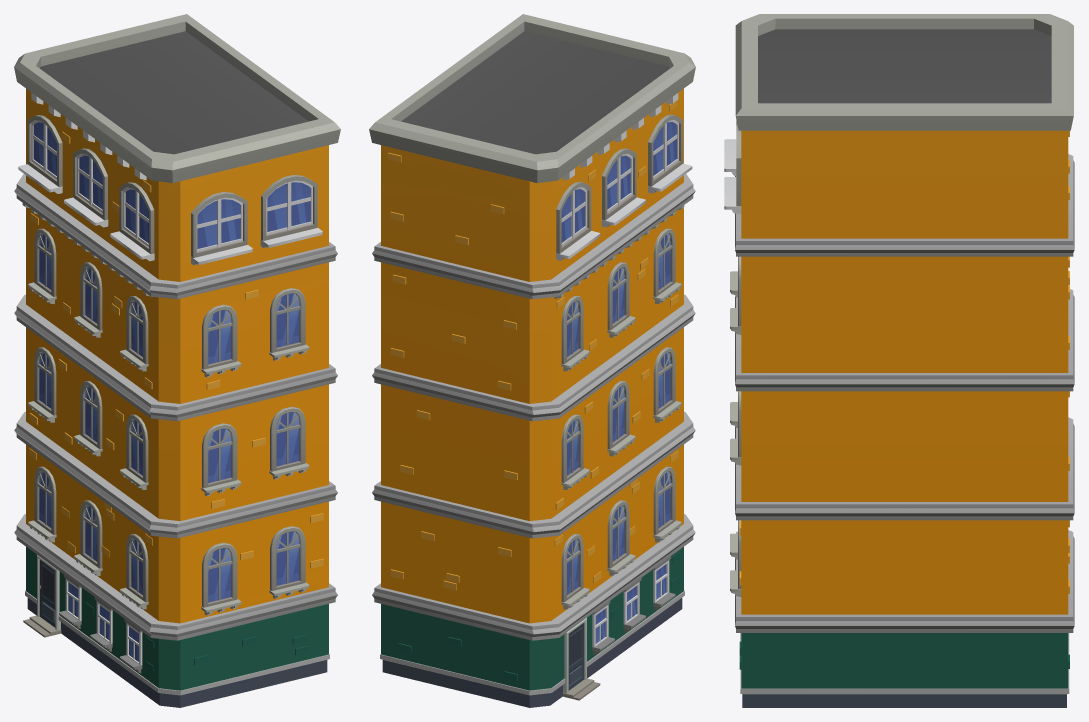
File: Building_18_1_F.fbx
The picture shows the model from 3 angles, left to right: view 1: azimuth 30°, elevation 25°; view 2: azimuth 150°, elevation 25°; view 3: azimuth 270°, elevation 25°; orthographic projection. The views are drawn at different scales.
Parts seen in each view (by area): view 1: Building_18_1_F; view 2: Building_18_1_F; view 3: Building_18_1_F.
Boxes of the visible parts, x1,y1,x2,y2 form: Building_18_1_F: [14, 14, 340, 707]; Building_18_1_F: [369, 14, 695, 707]; Building_18_1_F: [724, 14, 1074, 707].
Bounding box in the file's own units: 719 × 2014 × 1059.
